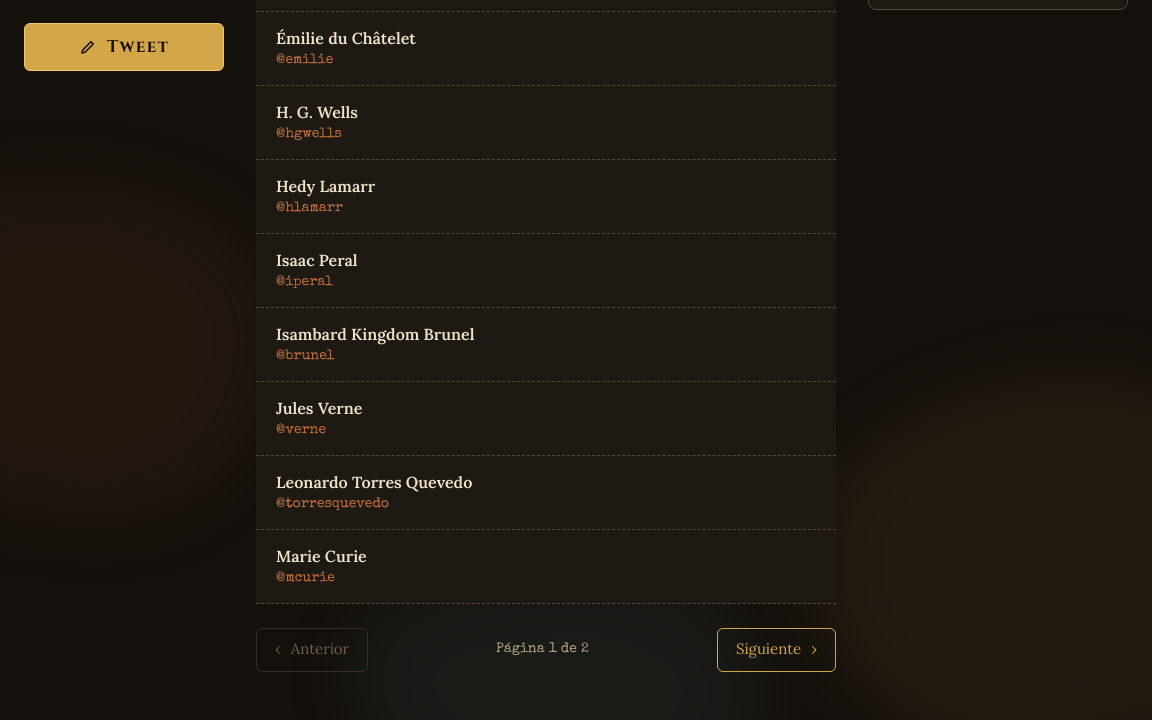
Scenario: Following page (M1-14) › lists people alphabetically across pages
(page scrolled)
Click the button "Siguiente ›". click: (776, 650)
box: x1=717 y1=628 x2=836 y2=672
(page scrolled)
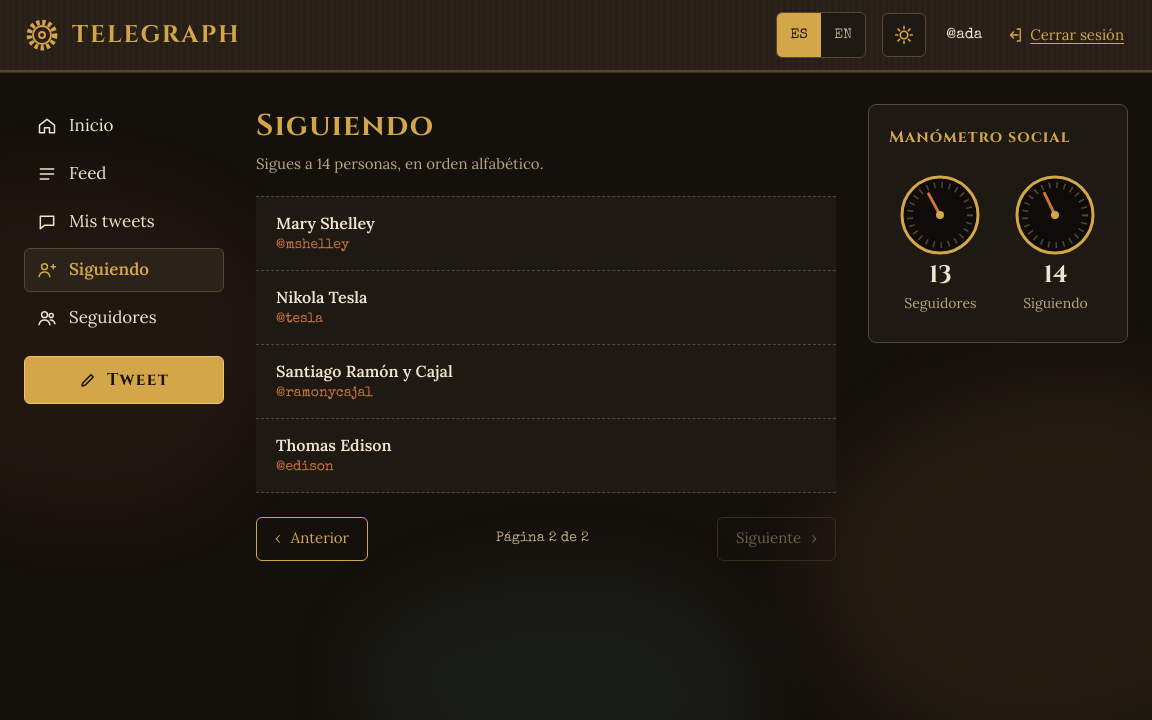
Result: the text "Página 2 de 2" is shown at x1=496 y1=528 x2=589 y2=549
